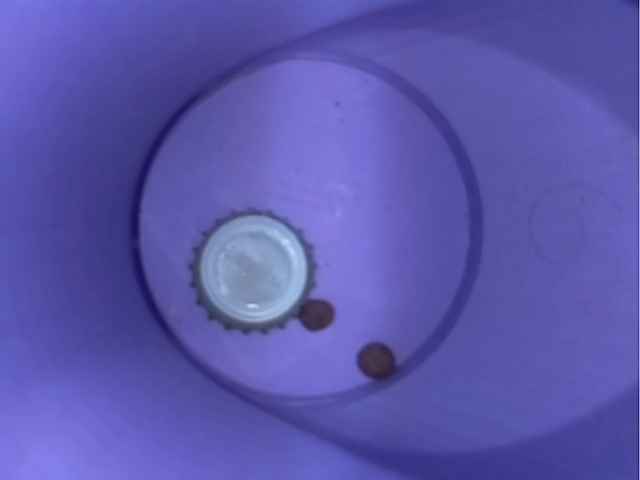capsule: (181, 205, 325, 339)
croquette: (350, 334, 405, 386), (292, 293, 344, 336)
